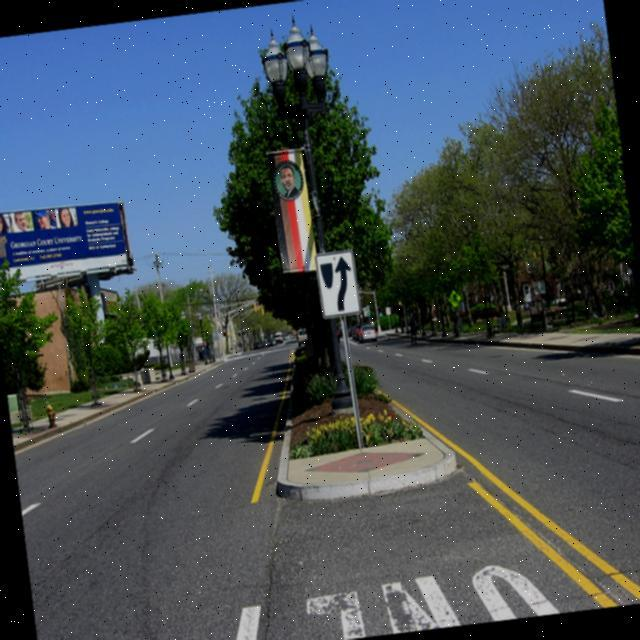fire_hydrant: (44, 401, 58, 429)
